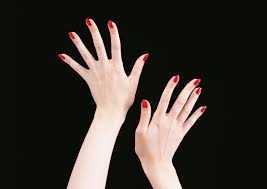hand: (56, 15, 141, 105), (146, 70, 207, 159)
